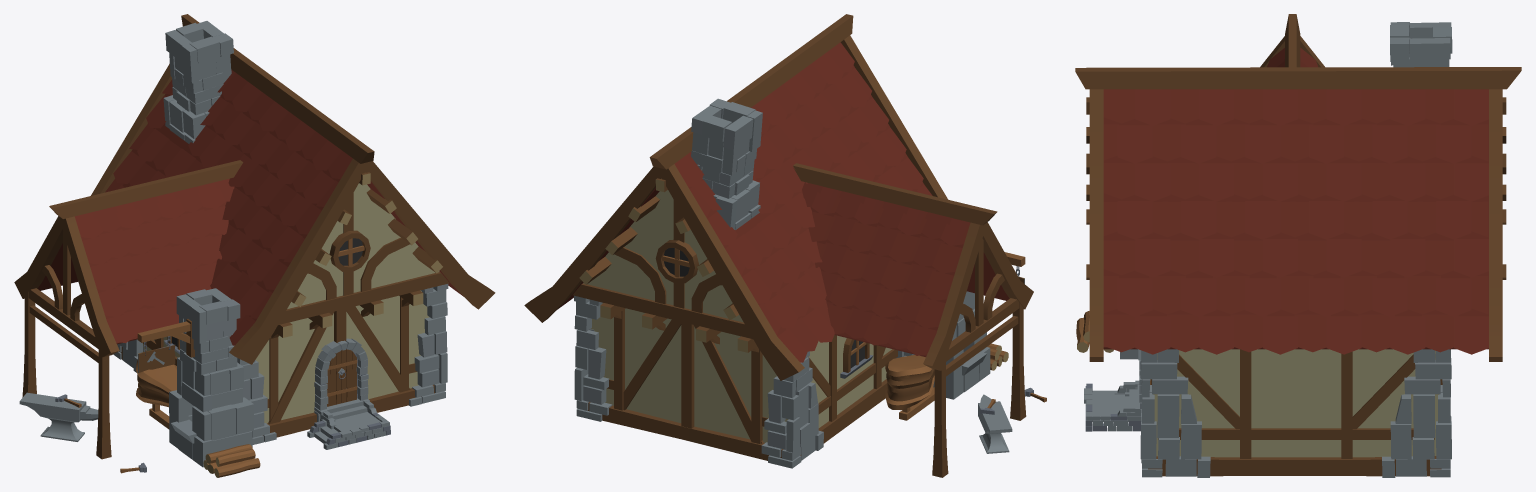
Rendered from Blacksmith_Baked.obj.
The picture shows the model from 3 angles, left to right: view 1: azimuth 30°, elevation 25°; view 2: azimuth 150°, elevation 25°; view 3: azimuth 270°, elevation 25°; orthographic projection. The views are drawn at different scales.
Visible parts, largest first — view 1: Blacksmith_Cube.000; view 2: Blacksmith_Cube.000; view 3: Blacksmith_Cube.000.
Boxes of the visible parts, x1,y1,x2,y2 form: Blacksmith_Cube.000: (14, 14, 495, 477); Blacksmith_Cube.000: (524, 14, 1046, 477); Blacksmith_Cube.000: (1075, 14, 1521, 477).
Bounding box in the file's own units: 3.89 × 3 × 3.28.
Materials: 1 (1 with a texture image).
